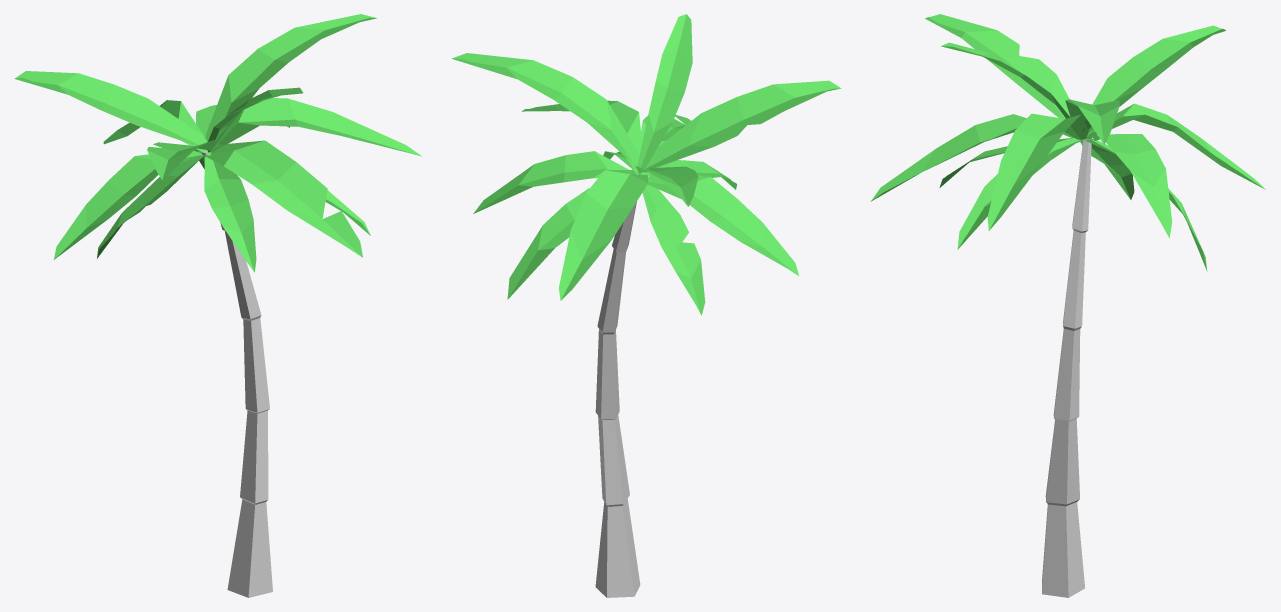
Rendered from Mesh_PalmTreeCurved.fbx.
3 views of the same model, side by side, from view 1: azimuth 30°, elevation 25°; view 2: azimuth 150°, elevation 25°; view 3: azimuth 270°, elevation 25° (orthographic).
Visible parts, largest first — view 1: Mesh_PalmTreeCurved_LOD0; view 2: Mesh_PalmTreeCurved_LOD0; view 3: Mesh_PalmTreeCurved_LOD0.
Boxes of the visible parts, left/top/right/bottom form: Mesh_PalmTreeCurved_LOD0: left=14, top=14, right=421, bottom=597; Mesh_PalmTreeCurved_LOD0: left=451, top=14, right=841, bottom=597; Mesh_PalmTreeCurved_LOD0: left=870, top=14, right=1265, bottom=597.
Size of what is drawn, in the model's own units: 7.98 by 12.2 by 8.13.
